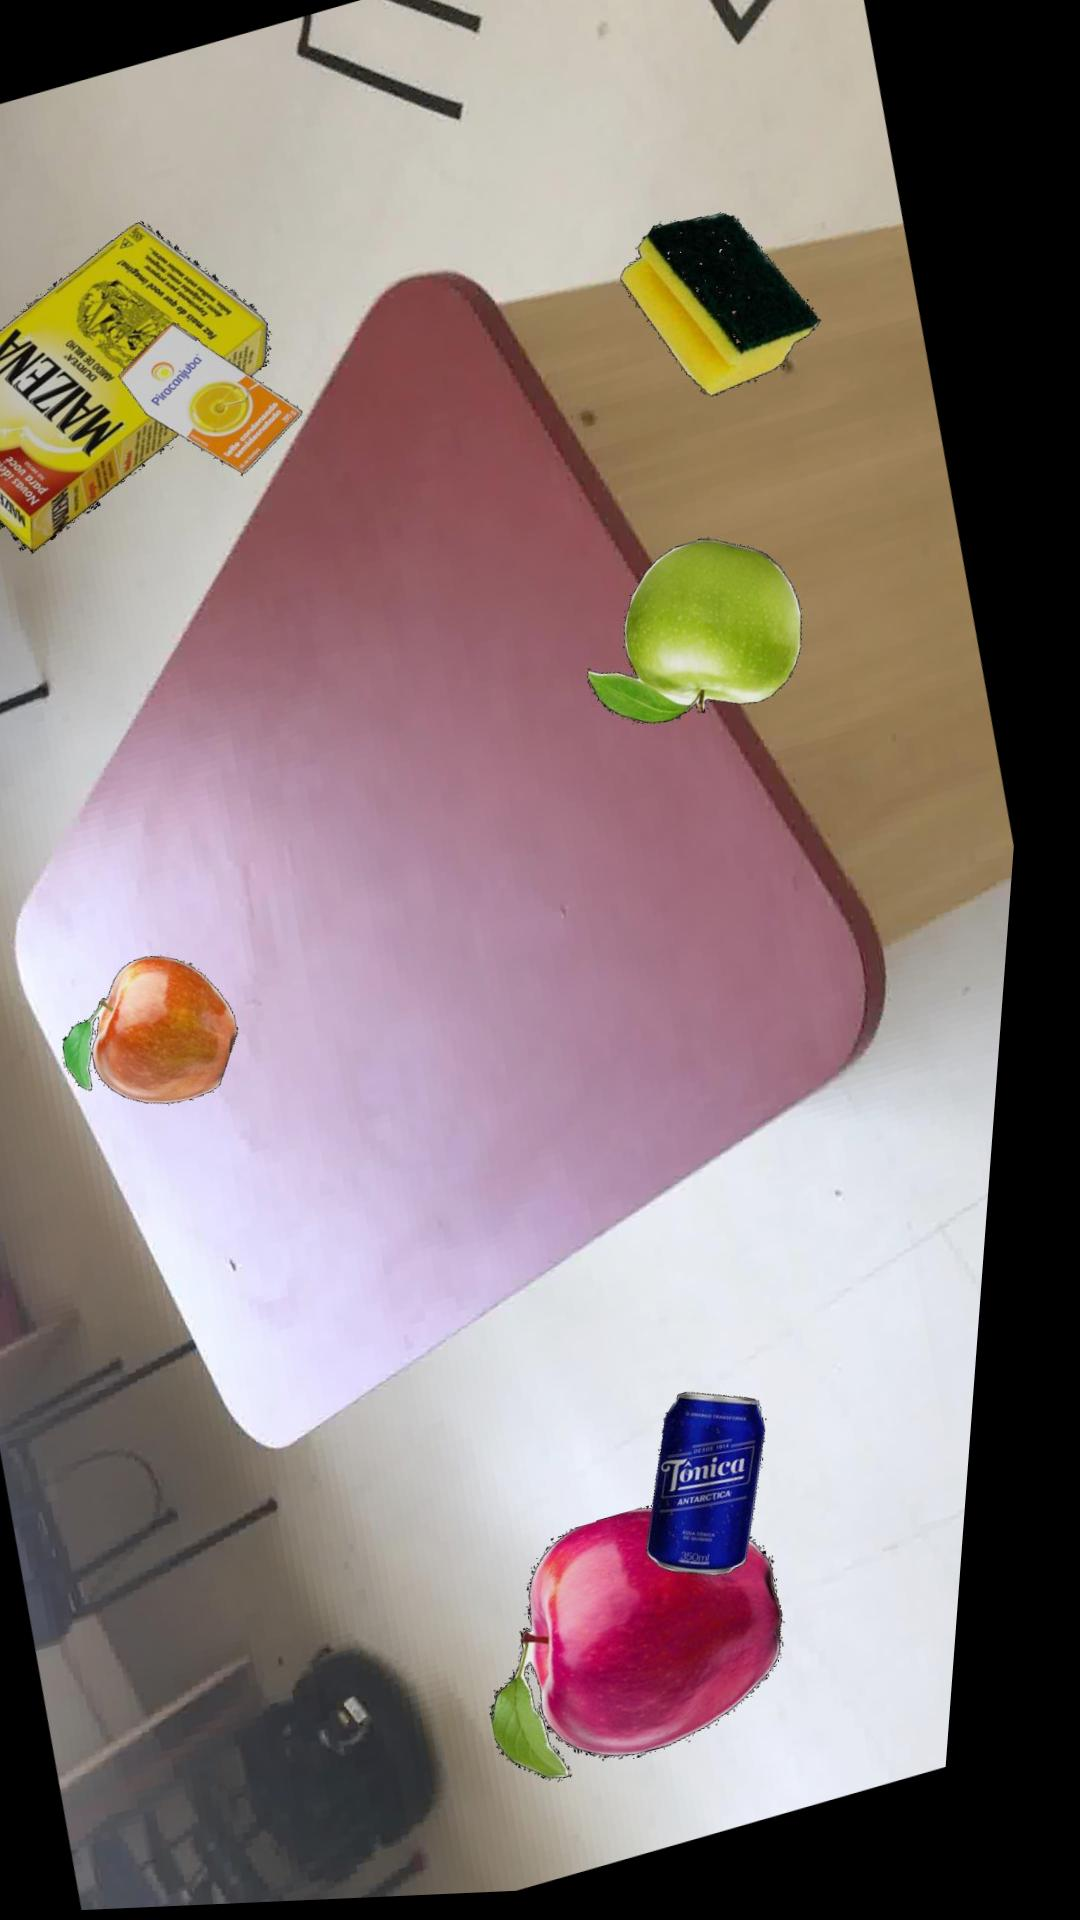apple: (517, 1510, 808, 1783), (79, 956, 255, 1104)
green apple: (599, 543, 812, 727)
sponge: (625, 218, 827, 401)
tonic: (671, 1396, 789, 1581)
